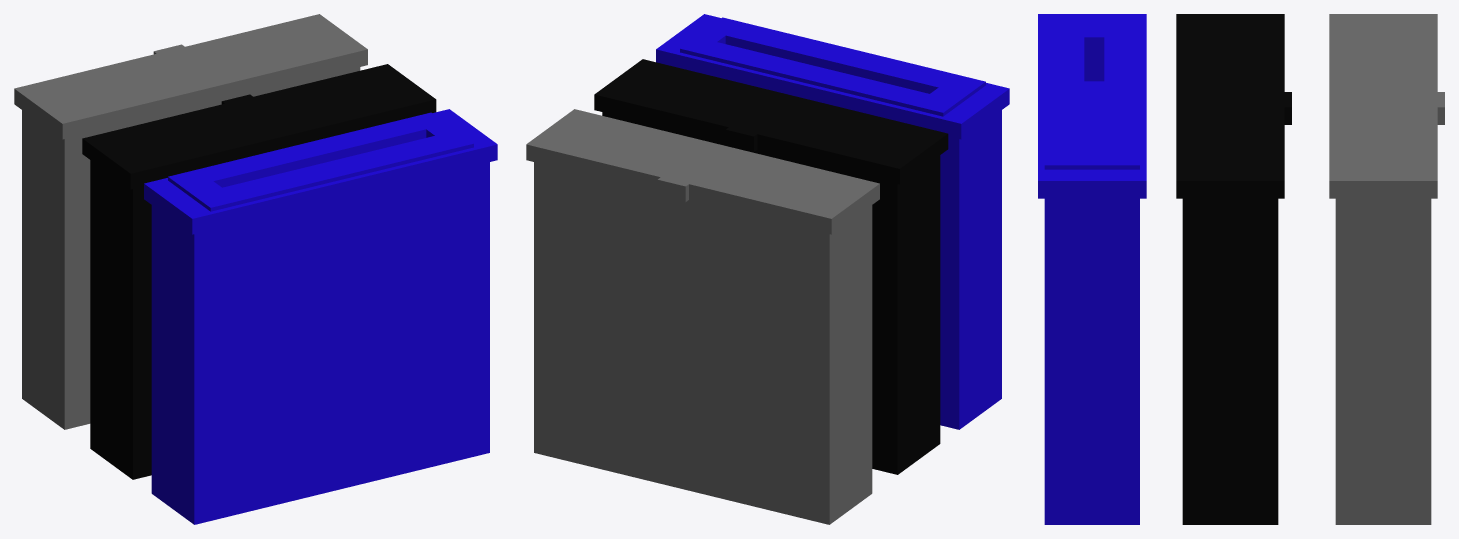
File: Vuilbakken_eetzaal_morgbeka.glb
3 renders of one model, left to right at view 1: azimuth 30°, elevation 25°; view 2: azimuth 150°, elevation 25°; view 3: azimuth 270°, elevation 25°, orthographic. The views are drawn at different scales.
Visible parts, largest first — view 1: Blauw, Grijs, Zwart; view 2: Grijs, Zwart, Blauw; view 3: Zwart, Grijs, Blauw.
Part boxes in pixels (x1,y1,x2,y2): Blauw: [144, 109, 497, 524]; Grijs: [14, 14, 367, 429]; Zwart: [82, 64, 436, 479]; Grijs: [526, 109, 879, 524]; Zwart: [594, 59, 948, 474]; Blauw: [656, 14, 1009, 429]; Zwart: [1176, 14, 1291, 524]; Grijs: [1329, 14, 1444, 524]; Blauw: [1038, 14, 1146, 524].
Bounding box in the file's own units: 0.62 × 0.6074 × 0.6379.
